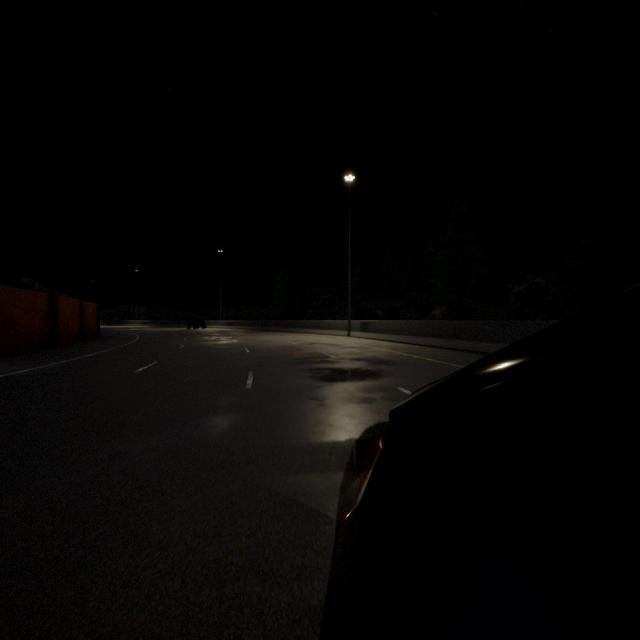Vehicle: (320, 286, 640, 638), (186, 316, 207, 329)
